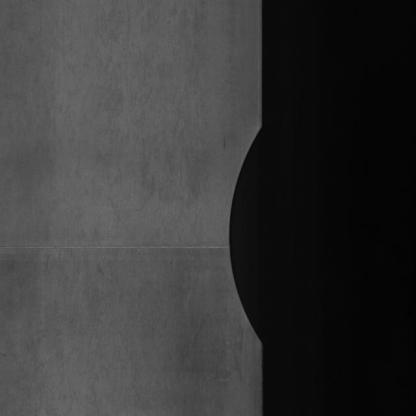crescent_gap: (222, 109, 287, 356)
welding_line: (2, 230, 238, 269)
